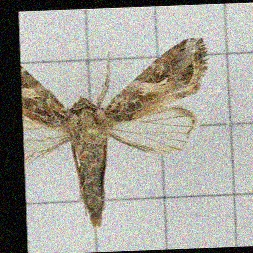Spodoptera litura: (23, 40, 212, 226)
